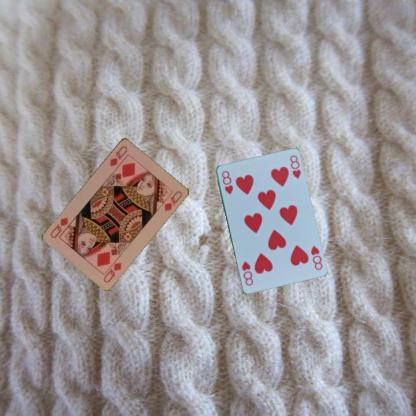8h: (308, 243, 324, 271), (219, 168, 234, 195)
Qd: (100, 254, 122, 284), (107, 142, 129, 168)
